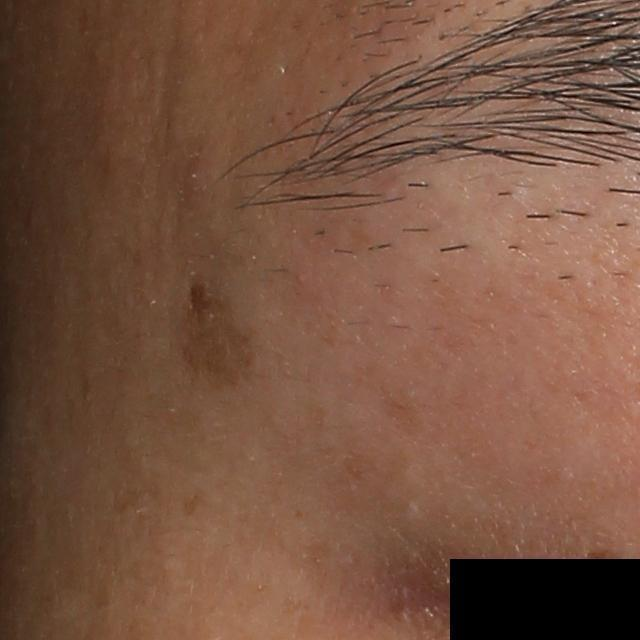melasma: (167, 266, 262, 396), (381, 376, 422, 435), (181, 489, 205, 515)
